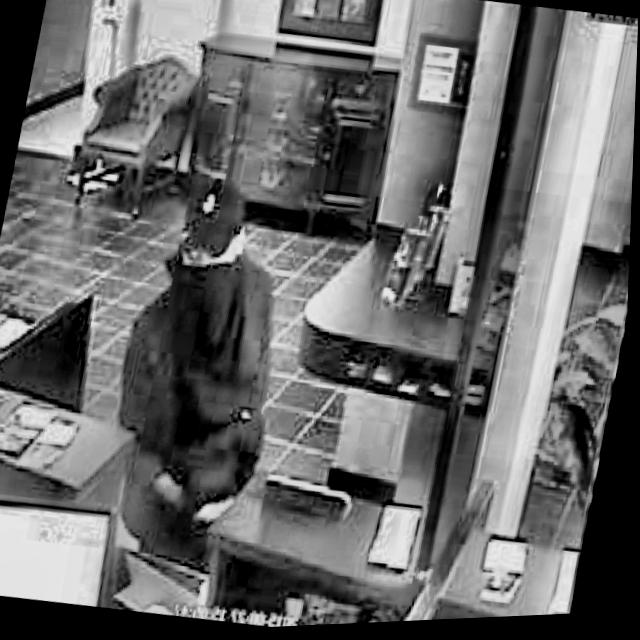robbery: (84, 164, 322, 580)
